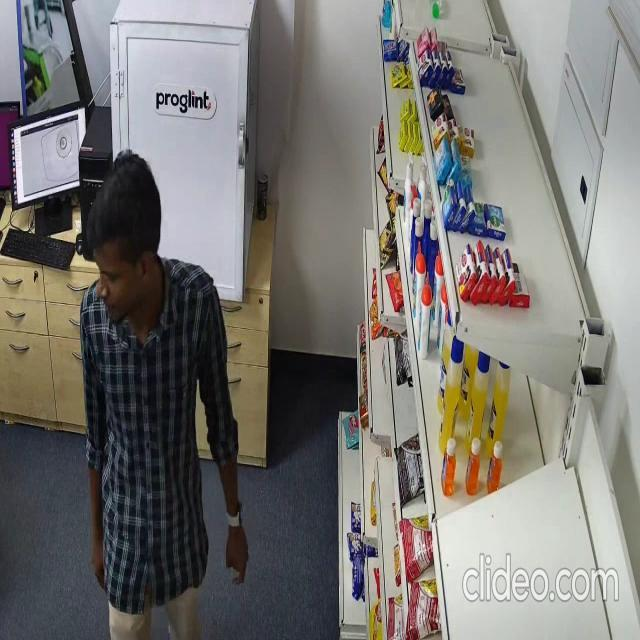normal: (81, 150, 250, 640)
